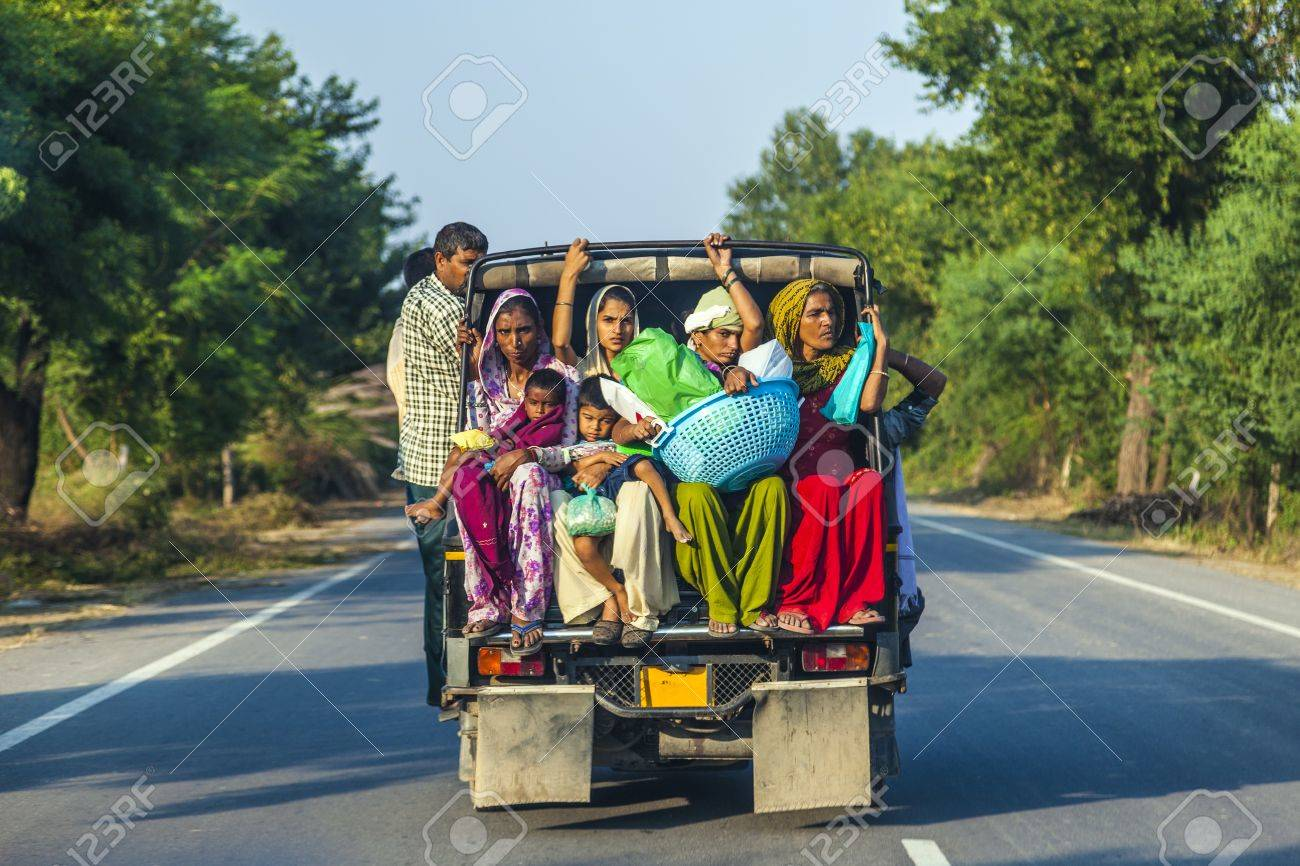person: (492, 300, 549, 366), (693, 296, 745, 366), (435, 229, 486, 298), (593, 289, 642, 357), (790, 290, 842, 351), (525, 373, 564, 430), (579, 383, 618, 440)
